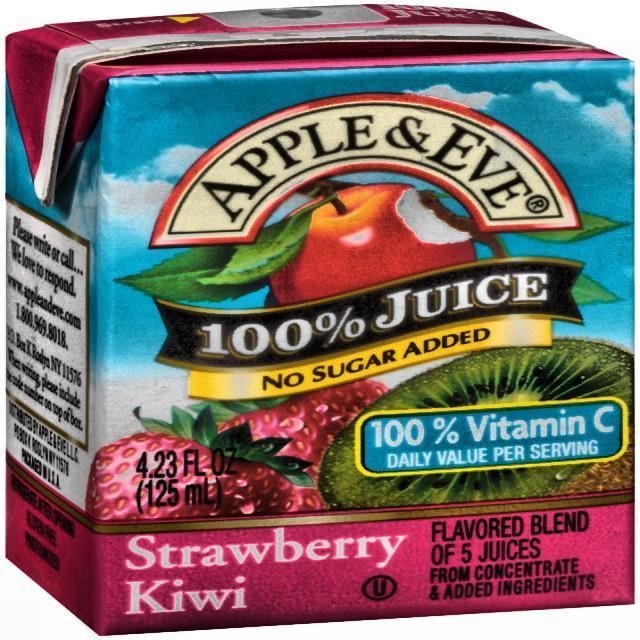cardboard: (2, 3, 636, 636)
